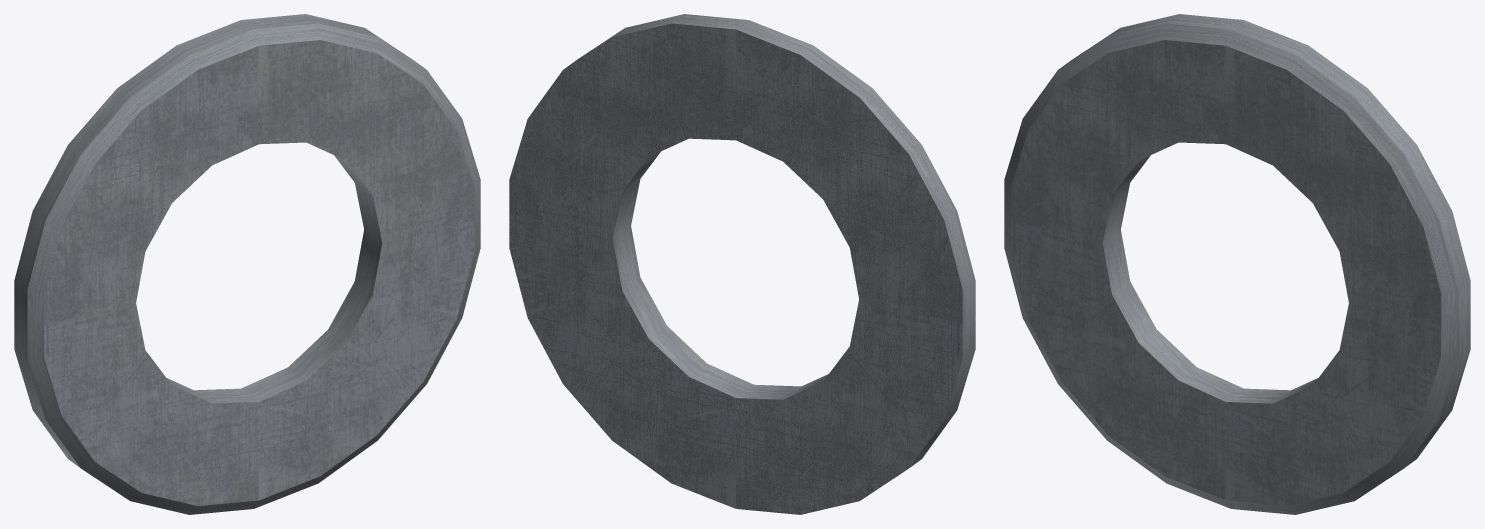
The model's file is Rondelle_Z4.obj.
The picture shows the model from 3 angles, left to right: view 1: azimuth 30°, elevation 25°; view 2: azimuth 150°, elevation 25°; view 3: azimuth 330°, elevation 25°; orthographic projection.
Visible parts, largest first — view 1: object__5; view 2: object__5; view 3: object__5.
Part boxes in pixels (bbox=[...]): object__5: bbox=[14, 14, 480, 514]; object__5: bbox=[509, 14, 975, 514]; object__5: bbox=[1004, 14, 1470, 514].
Size of the model in its own units: 7.92 by 8 by 0.55.
